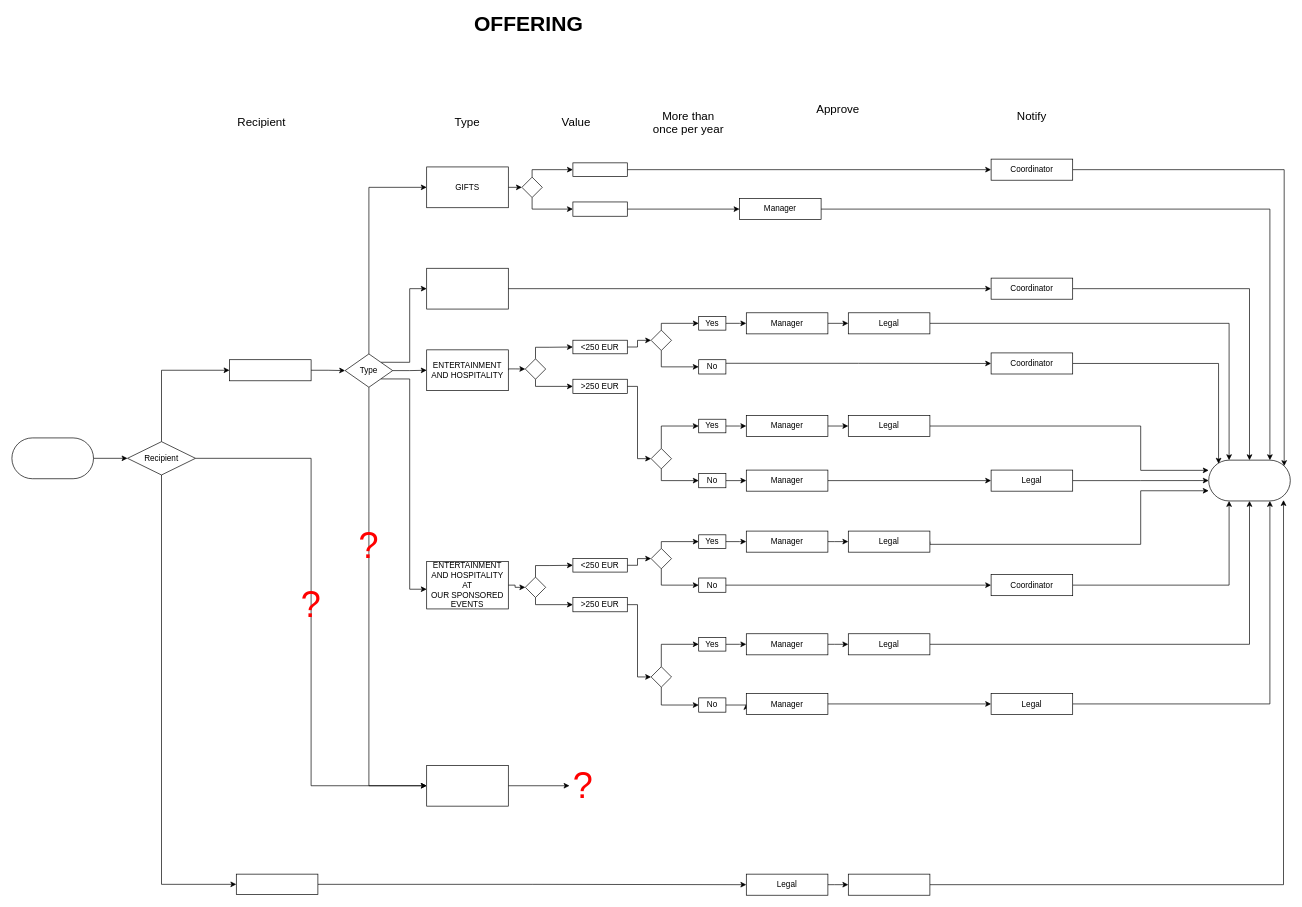
This 1302x907 diagram has some shape labels left out. Each missing label, with the box of its shape:
<100 EUR: (572, 162, 627, 176)
>100 EUR: (572, 201, 627, 216)
Approved: (1208, 459, 1290, 501)
Business: (229, 359, 311, 381)
BUSINESS MEALS: (426, 268, 508, 309)
CHARITABLE DONATIONS: (426, 765, 508, 806)
Government: (236, 873, 318, 895)
MD/GM: (848, 873, 930, 895)
Submtted: (11, 437, 94, 479)
